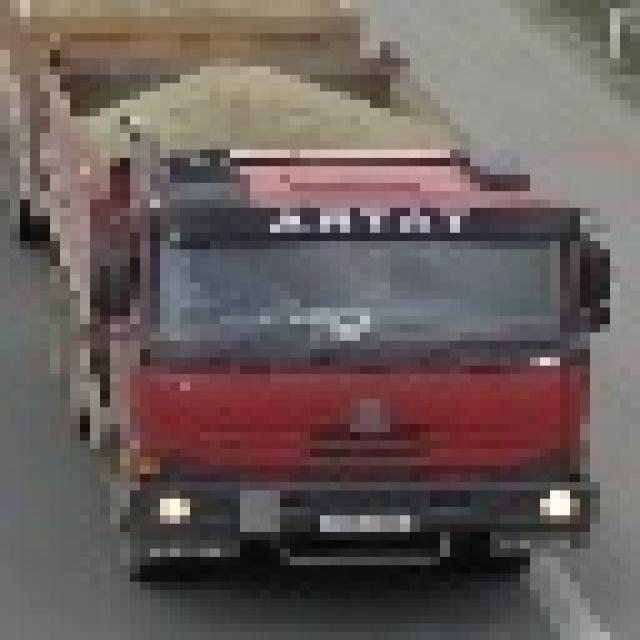car: (0, 0, 610, 607)
